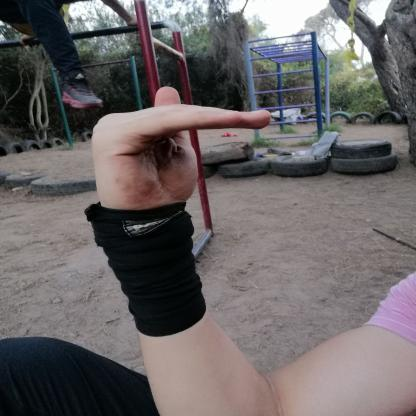KHAA: (73, 74, 285, 223)
